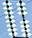gap: (17, 10, 31, 24)
